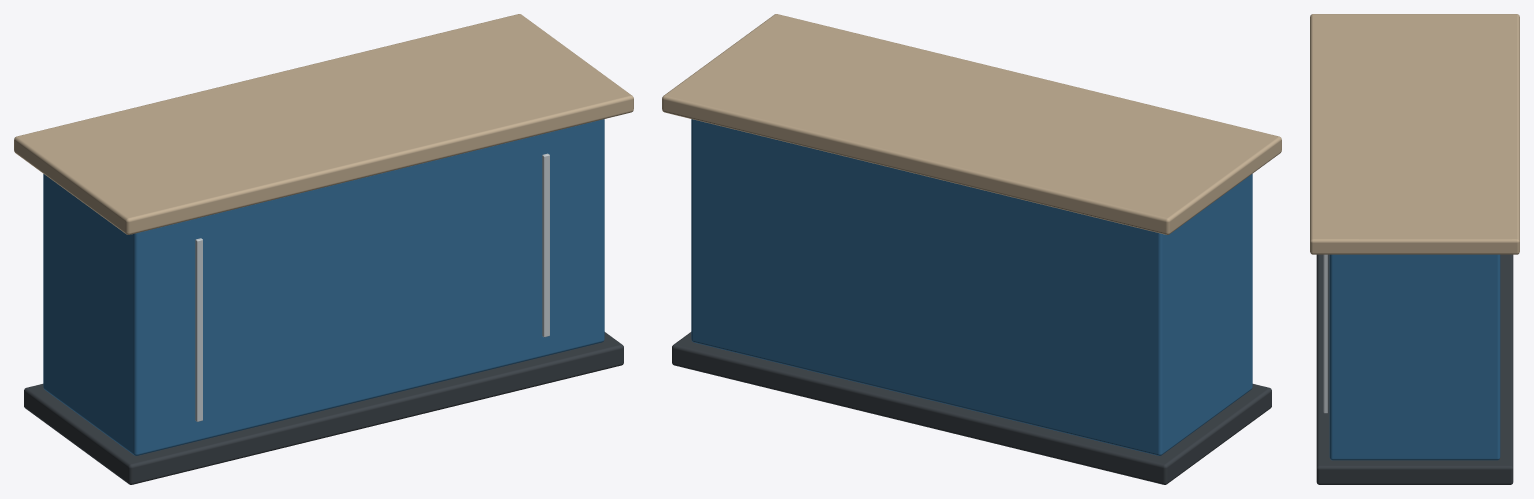
Rendered from fencing-club-and-tournament-piste-club-reception-cb85726c__31250.glb.
3 views of the same model, side by side, from view 1: azimuth 30°, elevation 25°; view 2: azimuth 150°, elevation 25°; view 3: azimuth 270°, elevation 25° (orthographic). The views are drawn at different scales.
Parts seen in each view (by area): view 1: club-reception; view 2: club-reception; view 3: club-reception.
Boxes of the visible parts, x1=… form: club-reception: x1=14, y1=14, x2=633, y2=484; club-reception: x1=662, y1=14, x2=1281, y2=484; club-reception: x1=1310, y1=14, x2=1519, y2=484.
Size of the model in its own units: 2.05 by 1.05 by 0.7999.
